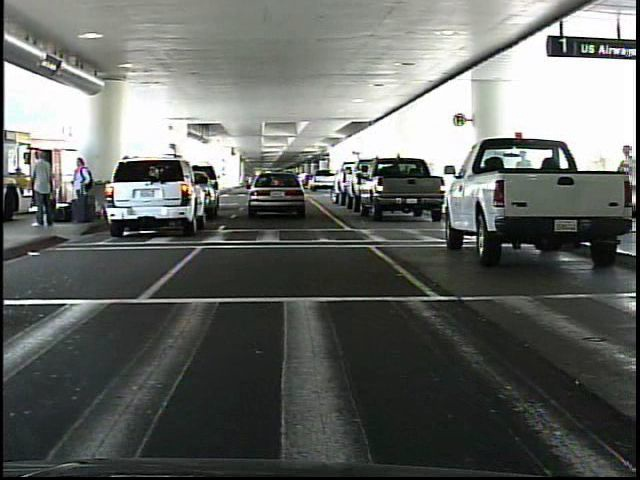person: (27, 149, 57, 228), (611, 140, 635, 234), (68, 156, 92, 226)
